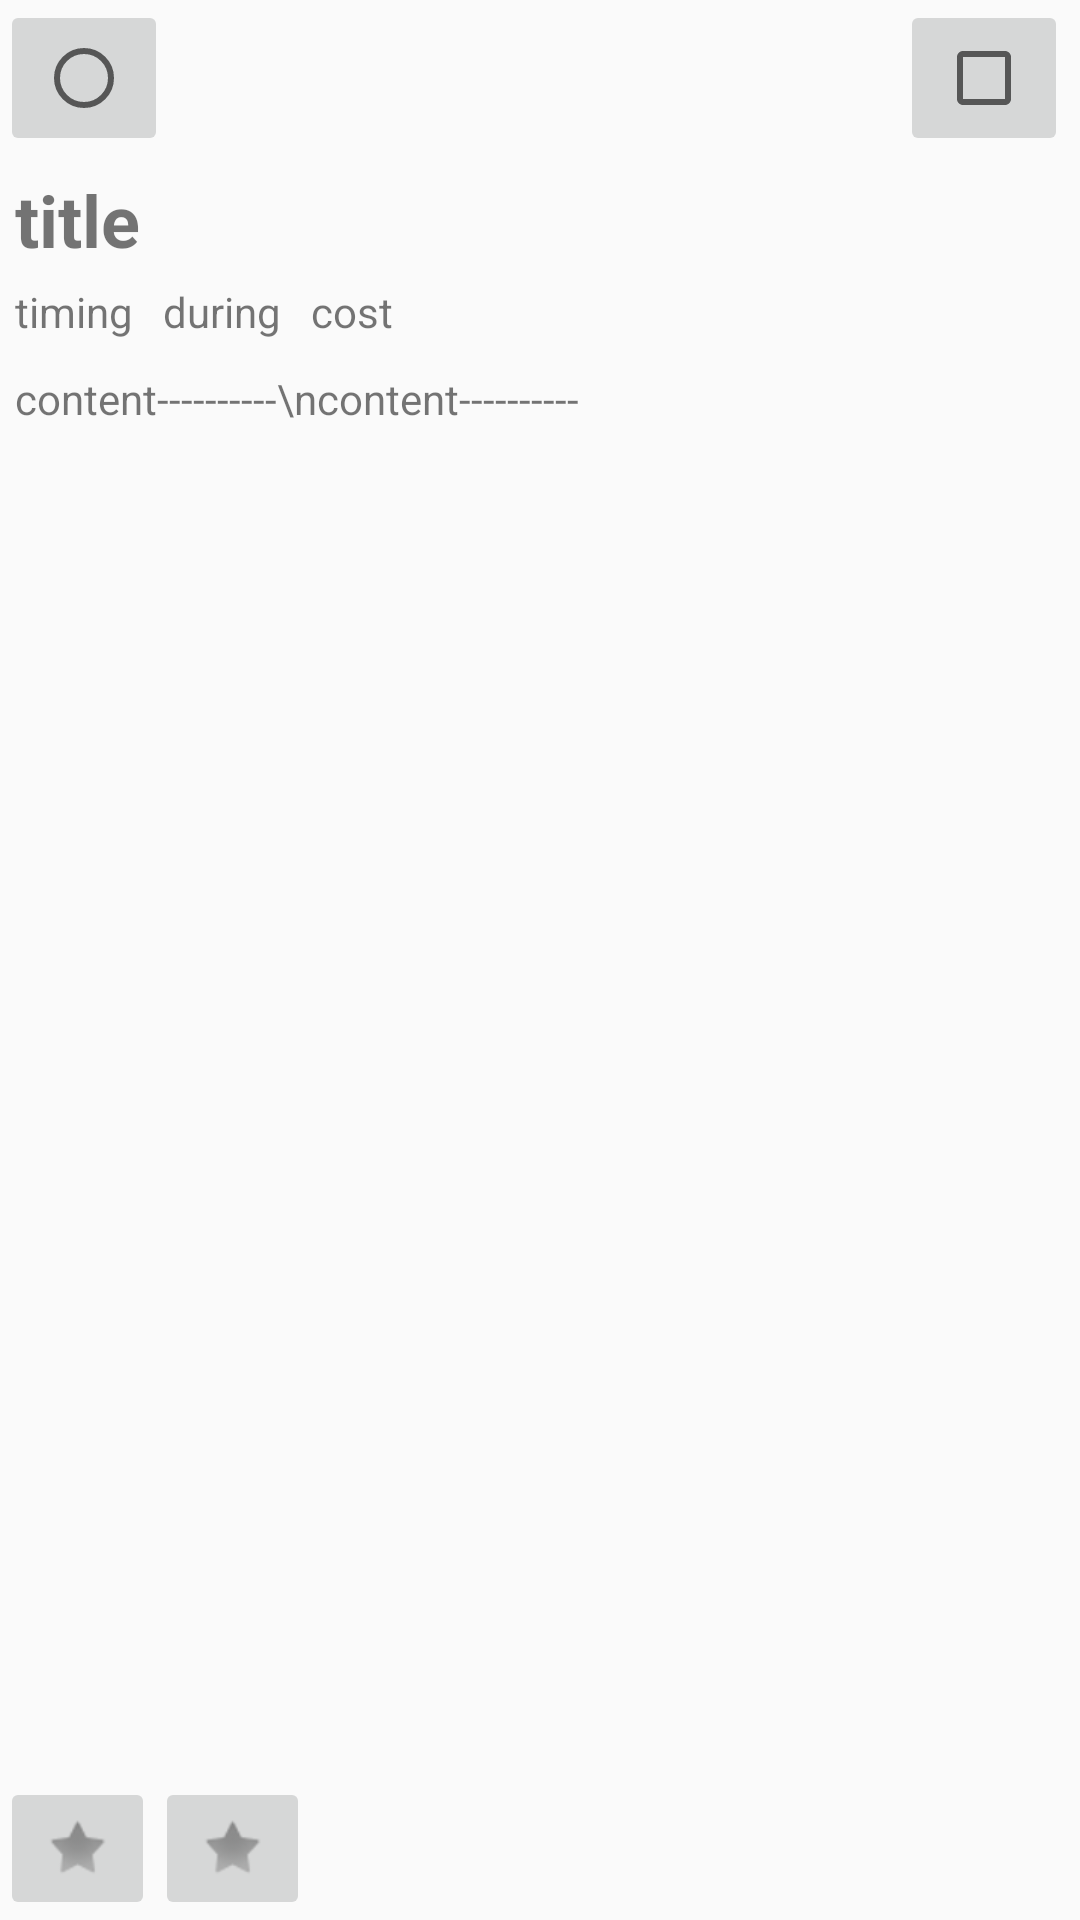

Where icons sit on this 1080*1920 app screen, as bbox(x1, y1, x2, y2):
star off: bbox(12, 1795, 143, 1902), bbox(167, 1795, 298, 1902)
